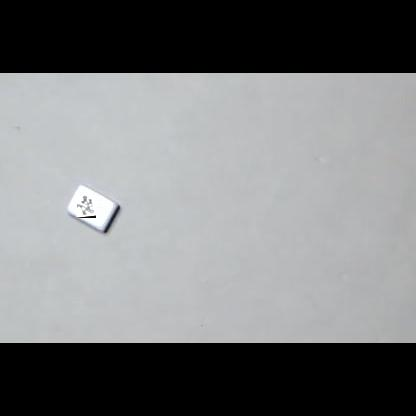4z: (78, 195, 101, 218)
